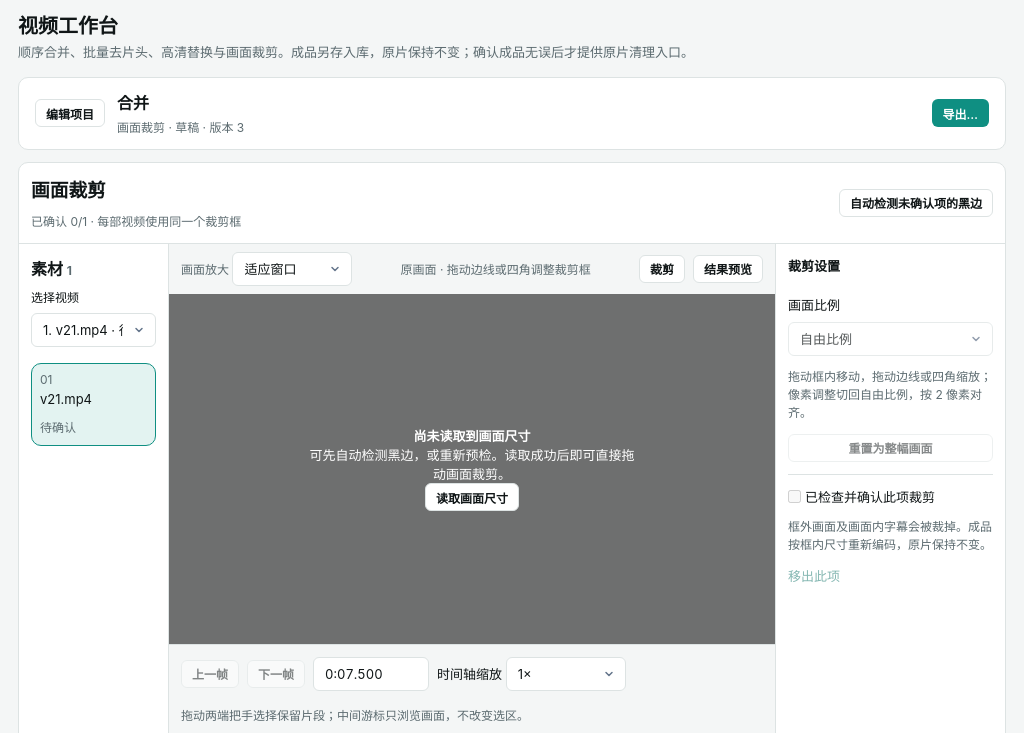
Test case: 视频工作台页（视频编辑合同「界面」） › 裁剪项目读取来源并通过原有分析接口启动黑边检测
Click the button with test id "crop-analyze".
click(916, 202)  # box [839,188,993,216]
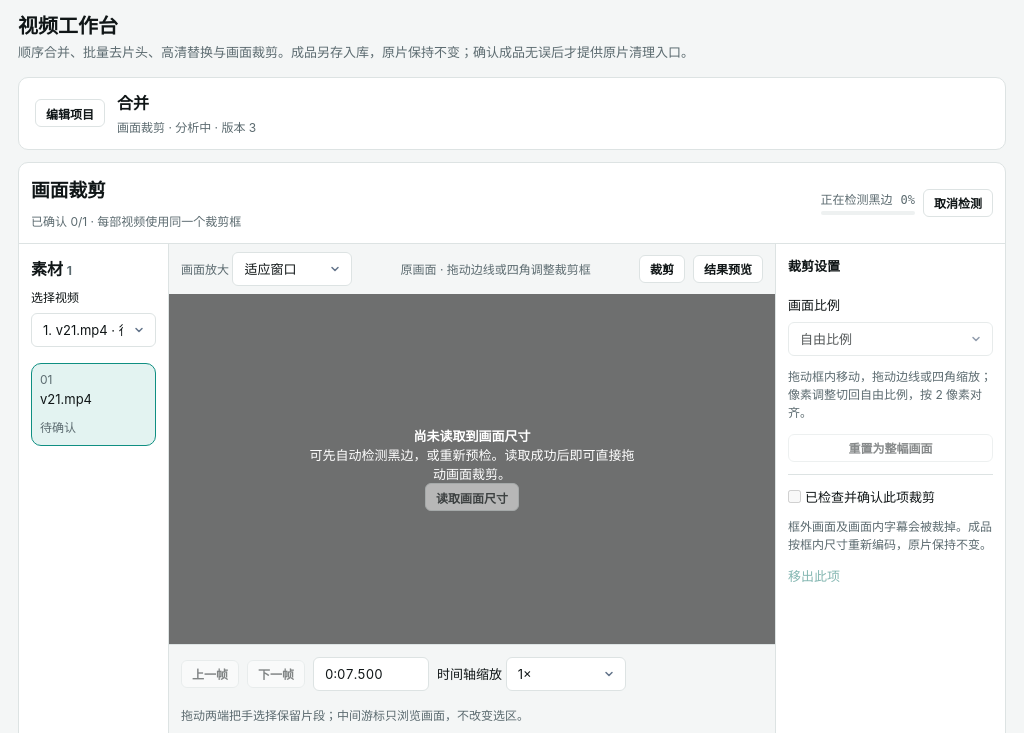
Expected: the button with test id "crop-cancel-analysis" is shown, [923,188,993,216]
